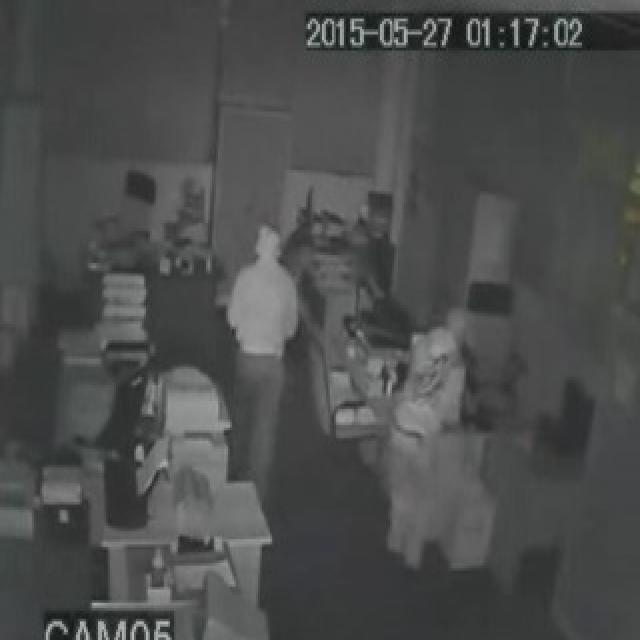thief: (192, 183, 321, 344), (404, 324, 469, 432)
